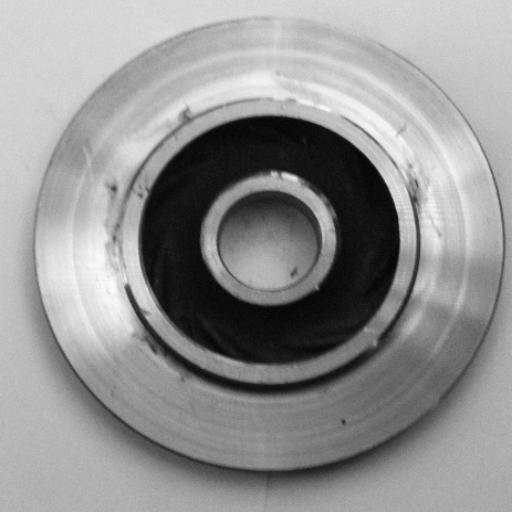crack: (92, 172, 138, 308), (394, 150, 446, 242), (135, 318, 197, 384)
scratch: (249, 82, 357, 123)
unpolished_casting: (34, 15, 506, 476)
